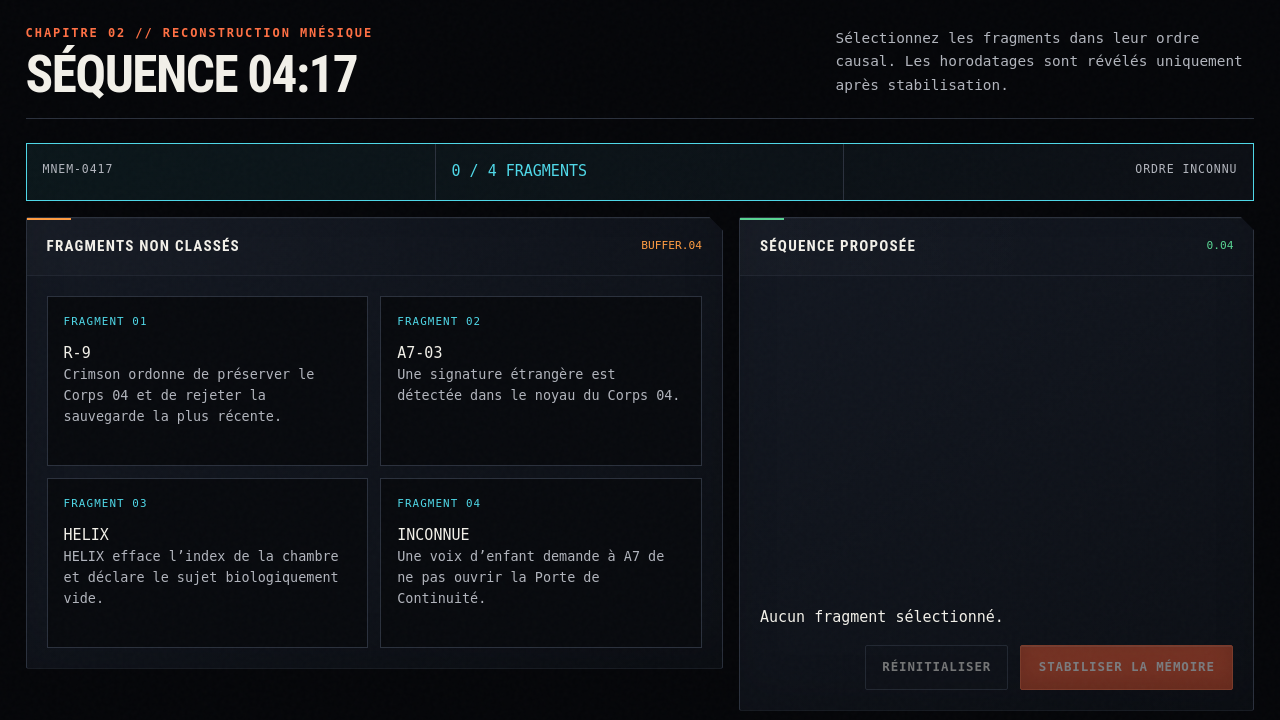
Chapitre 02 — Les Sept Corps › reconstruit la séquence 04:17 et la sauvegarde
Click the button "A7-03".
click(541, 381)  # box 380,296 -> 702,466
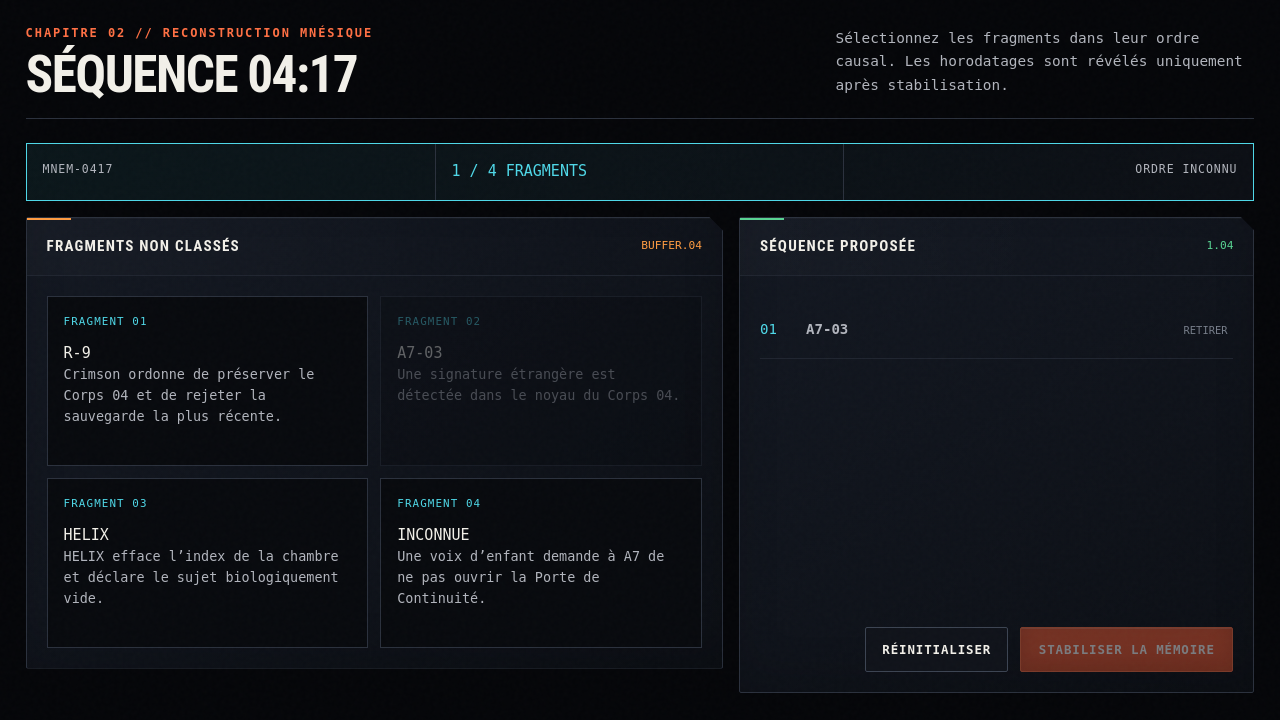
Click the button "INCONNUE".
click(541, 563)  # box 380,478 -> 702,648
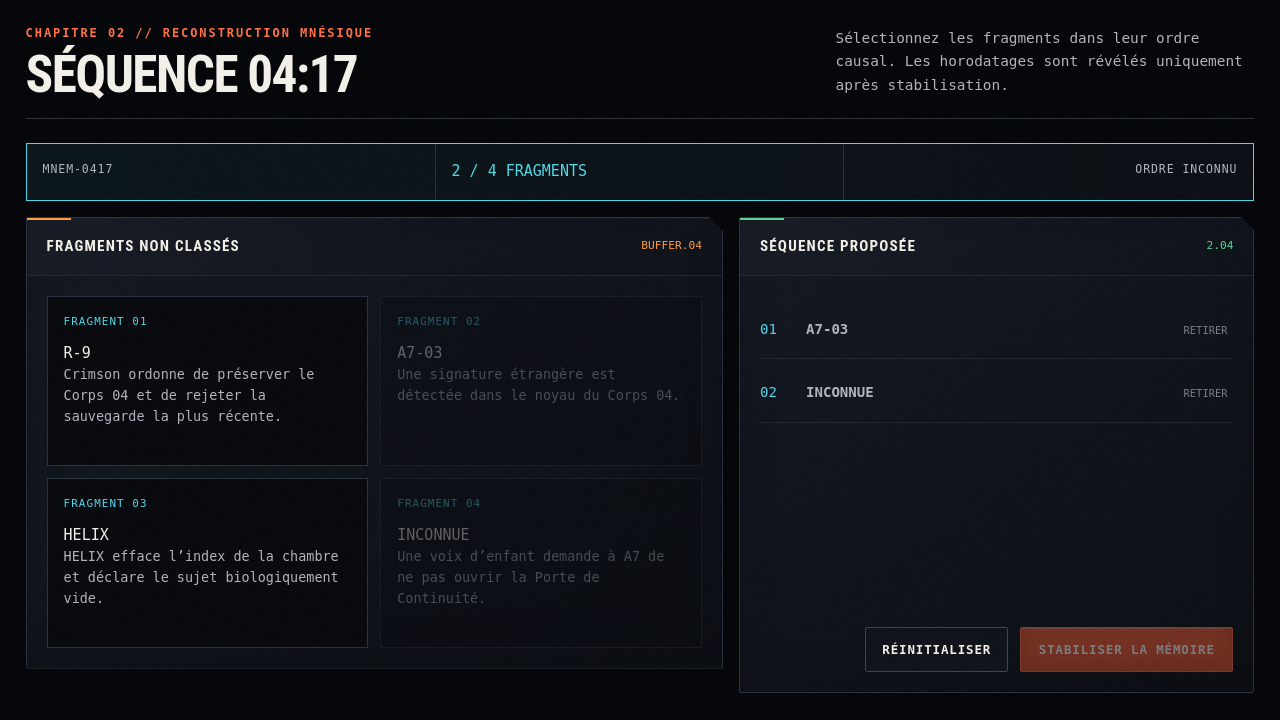
Click the button "R-9".
click(207, 381)  # box 47,296 -> 368,466
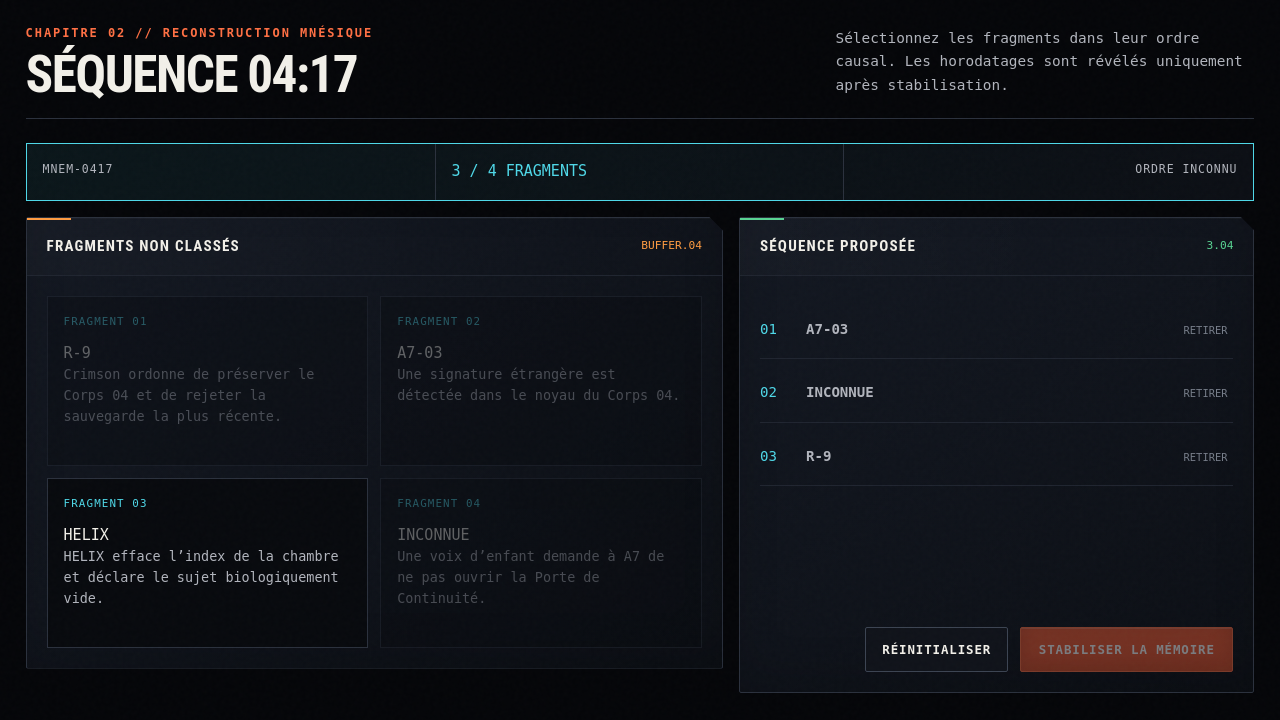
Click the button "HELIX".
click(207, 563)  # box 47,478 -> 368,648
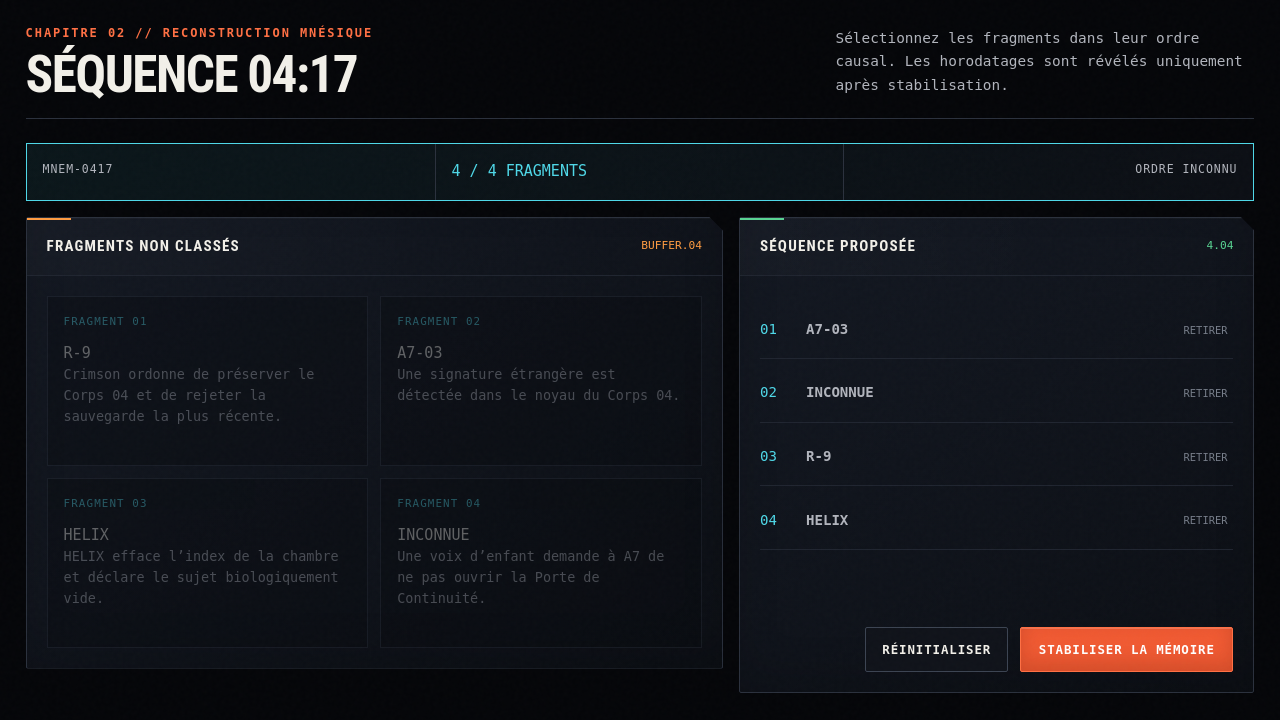
Click the button "STABILISER LA MÉMOIRE".
click(1127, 650)  # box 1020,627 -> 1233,672
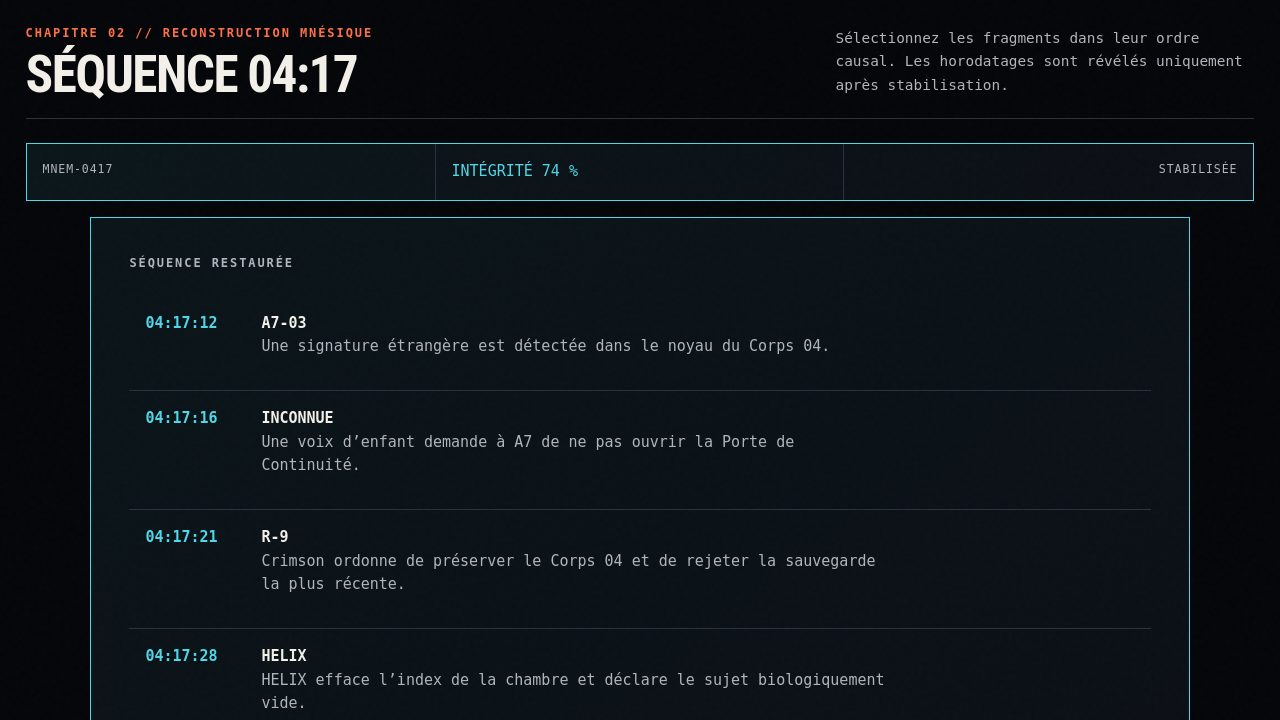
Check: the text "SÉQUENCE RESTAURÉE" is shown, box 129,256 -> 294,270
